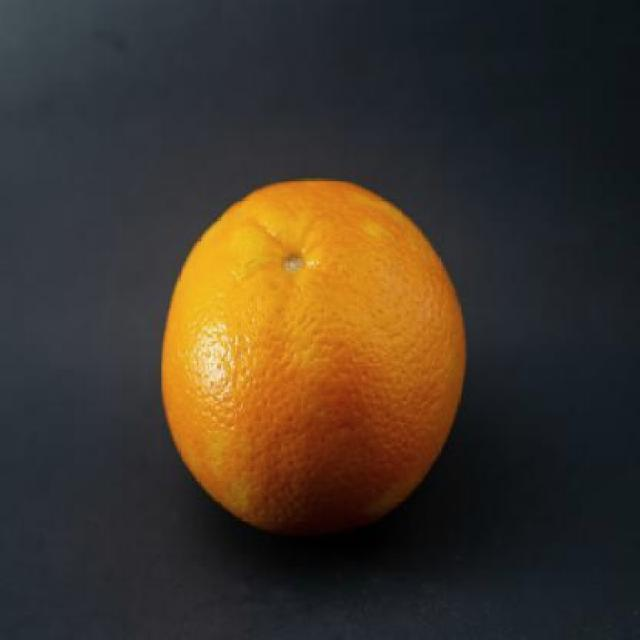Jeruk Sudah Matang: (160, 180, 469, 545)
